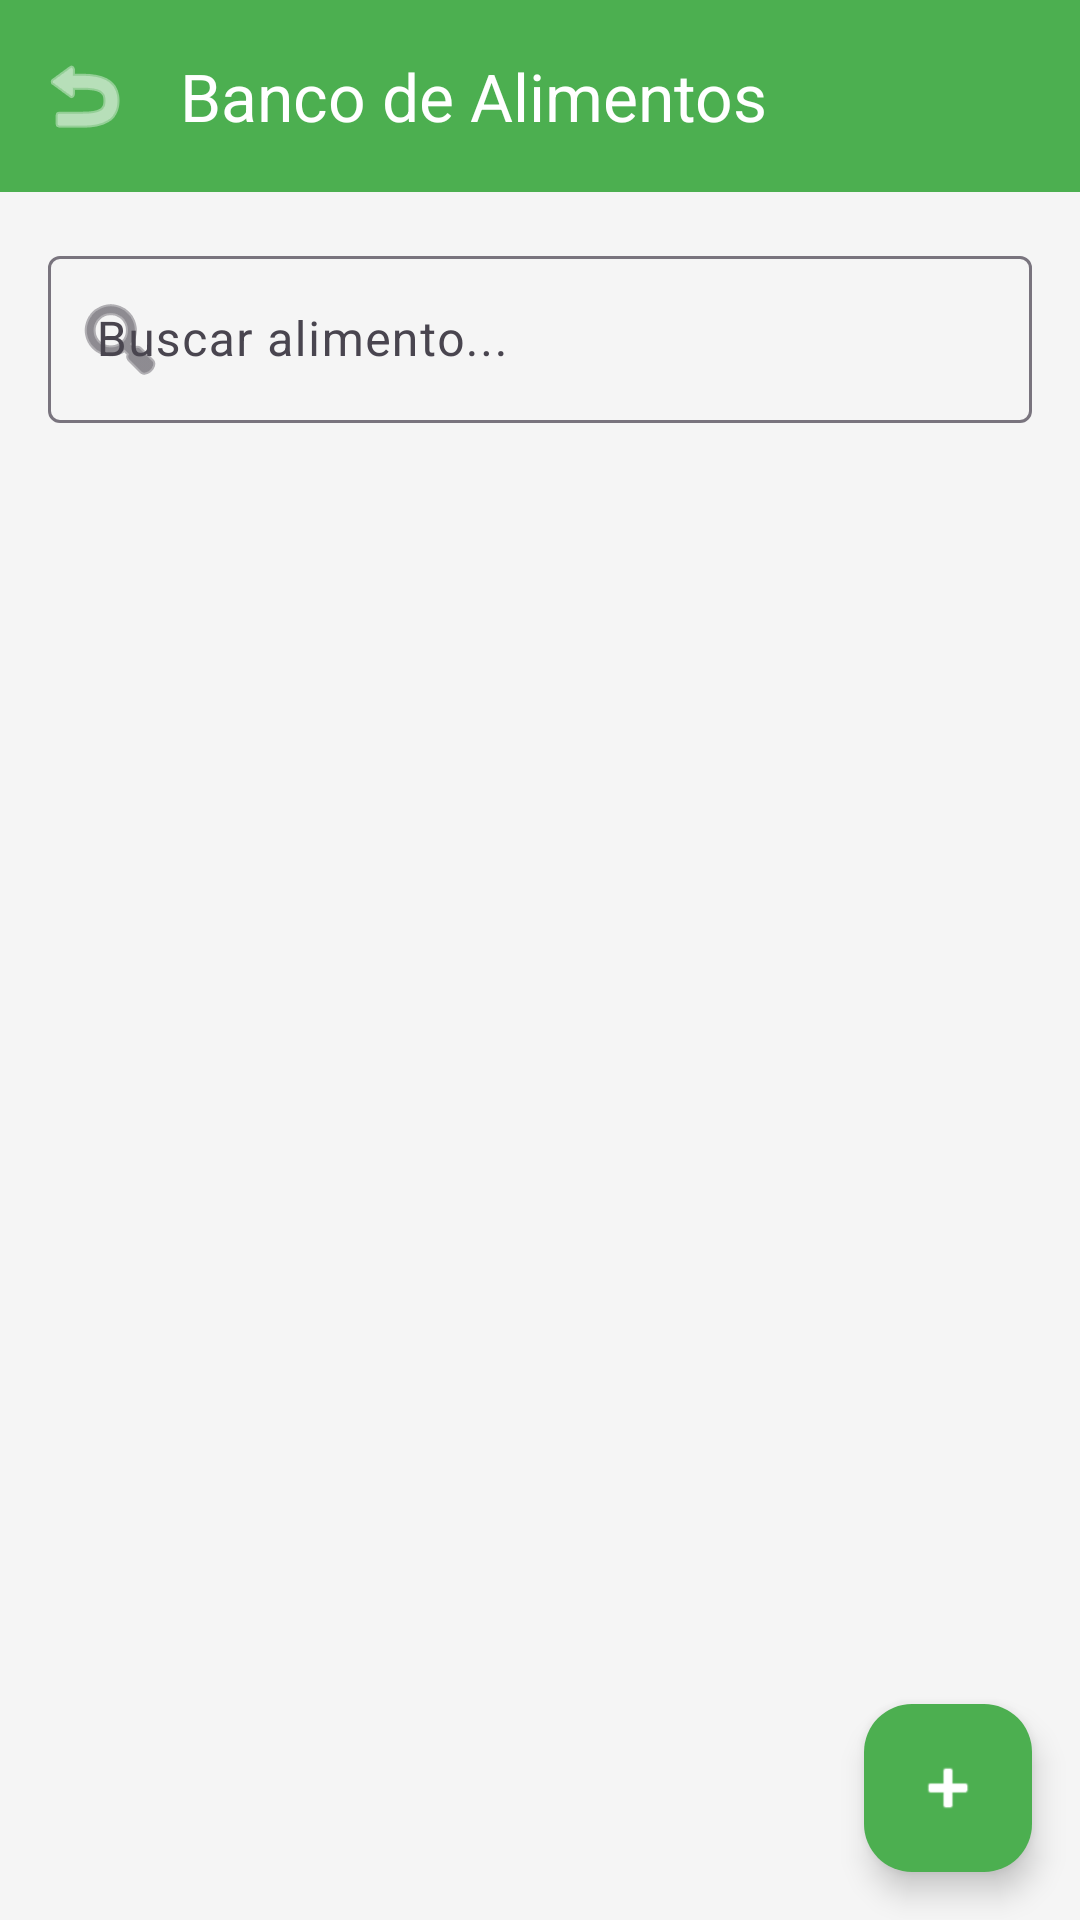

Named icons in this screenshot (1080px x 1920px) and their bounding boxes, (x1, y1, x2, y2):
Adicionar alimento: (864, 1704, 1032, 1872)
